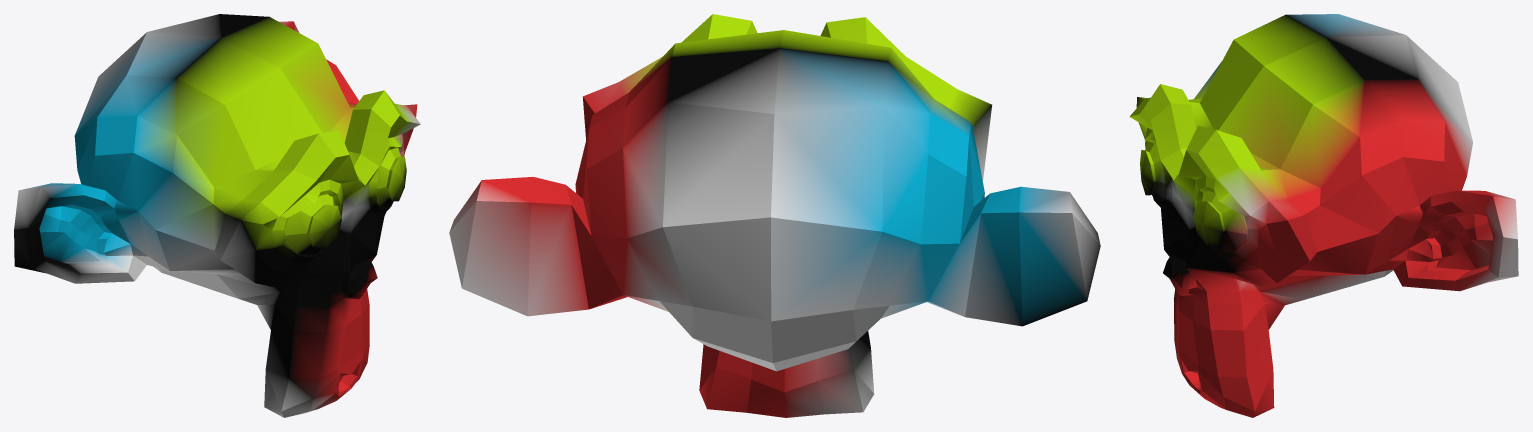
Rendered from suzanneTriangulatedOffset.obj.
The picture shows the model from 3 angles, left to right: view 1: azimuth 30°, elevation 25°; view 2: azimuth 150°, elevation 25°; view 3: azimuth 270°, elevation 25°; orthographic projection. The views are drawn at different scales.
Parts seen in each view (by area): view 1: Suzanne.001; view 2: Suzanne.001; view 3: Suzanne.001.
Part boxes in pixels (x1,y1,x2,y2): Suzanne.001: [14, 14, 420, 417]; Suzanne.001: [449, 14, 1100, 417]; Suzanne.001: [1129, 14, 1518, 417].
Bounding box in the file's own units: 2.48 × 1.97 × 2.03.
